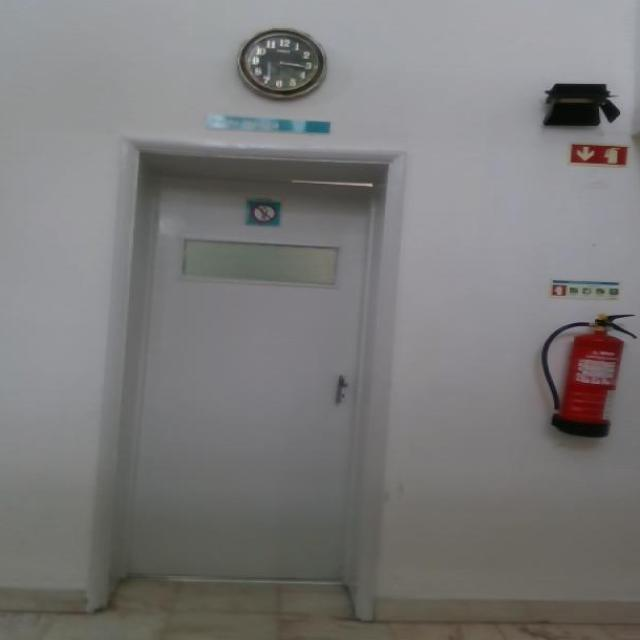door: (123, 178, 372, 587)
